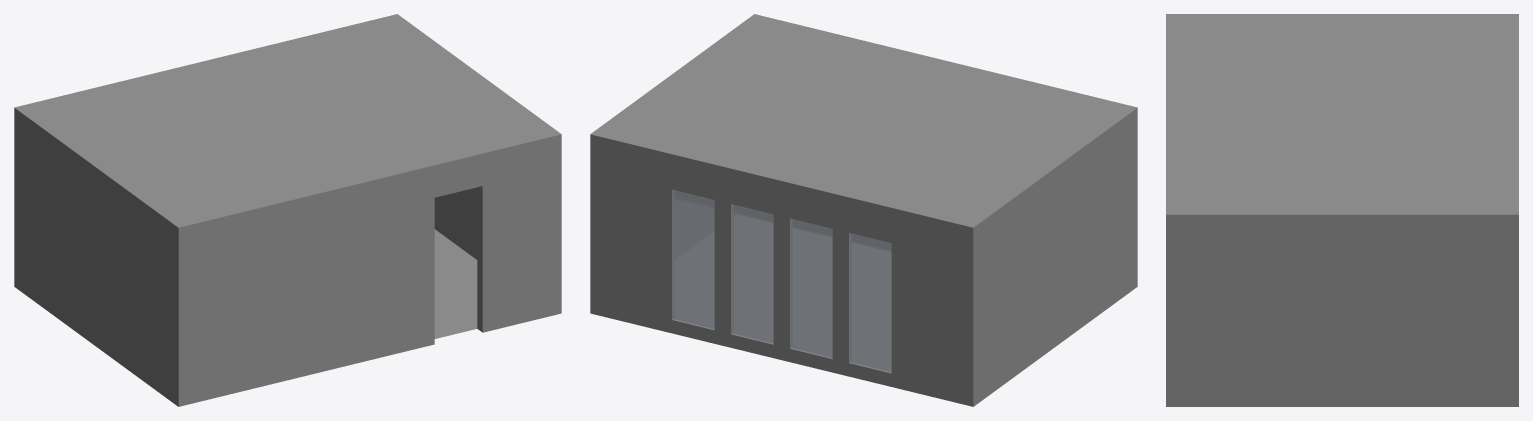
The model's file is Boardroom.FBX.
3 views of the same model, side by side, from view 1: azimuth 30°, elevation 25°; view 2: azimuth 150°, elevation 25°; view 3: azimuth 270°, elevation 25° (orthographic). The views are drawn at different scales.
Parts seen in each view (by area): view 1: walls, ceiling, ground; view 2: walls, ceiling, windows, ground, windowFrames; view 3: ceiling, walls.
Boxes of the visible parts, box(x1,y1,x2,y2) form: walls: box(14, 115, 561, 406); ceiling: box(14, 14, 561, 235); ground: box(434, 229, 477, 338); walls: box(590, 115, 1137, 406); ceiling: box(590, 14, 1137, 235); windows: box(672, 190, 891, 372); ground: box(675, 215, 891, 370); windowFrames: box(669, 186, 894, 376); ceiling: box(1166, 14, 1518, 222); walls: box(1166, 223, 1518, 406).
Bounding box in the file's own units: 8.19 × 3.66 × 6.08.
